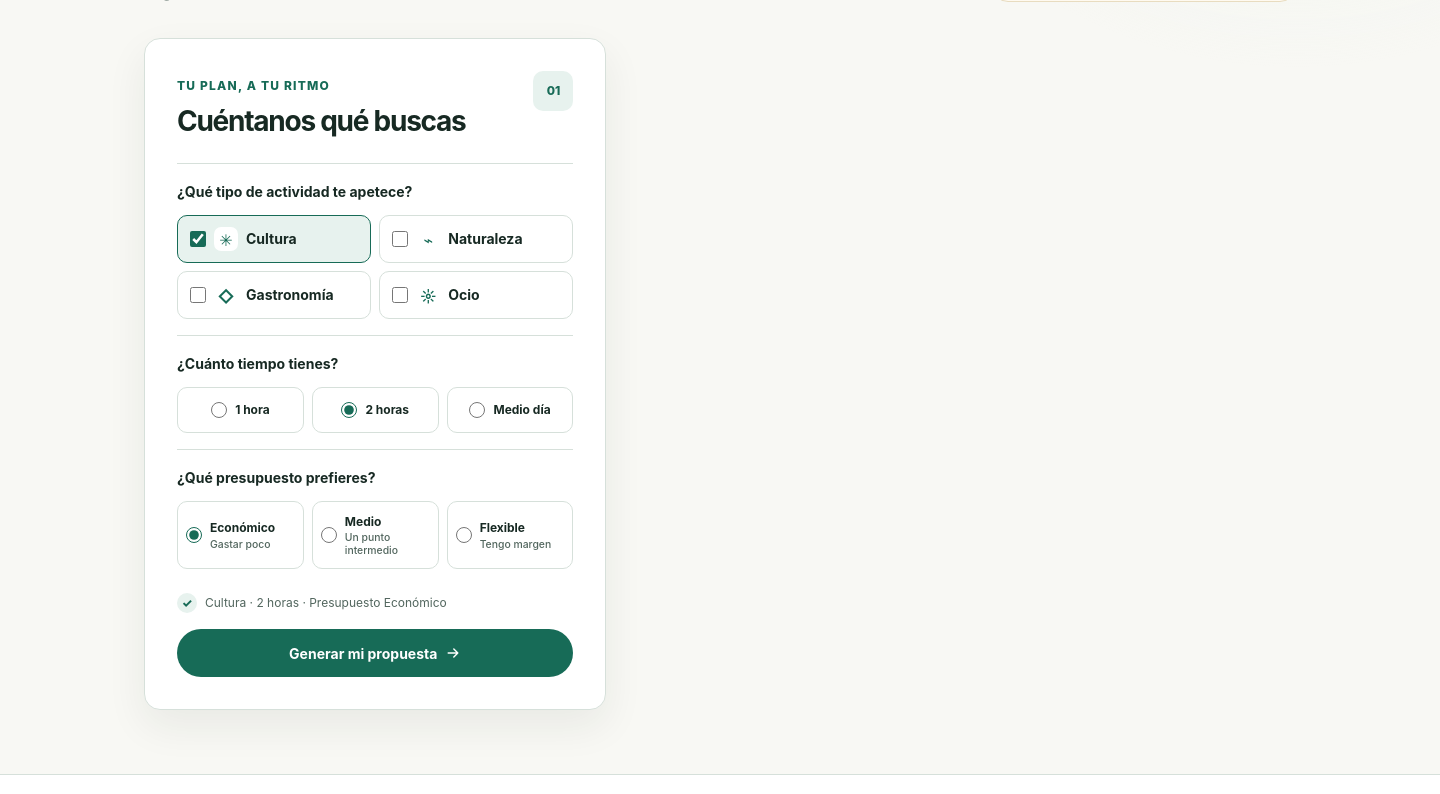
Test: DiscoverPageComponent › updates time and budget preferences without reloading
(page scrolled)
Click the radio button named "availableTime" at (478, 410), box [470, 402, 486, 418]
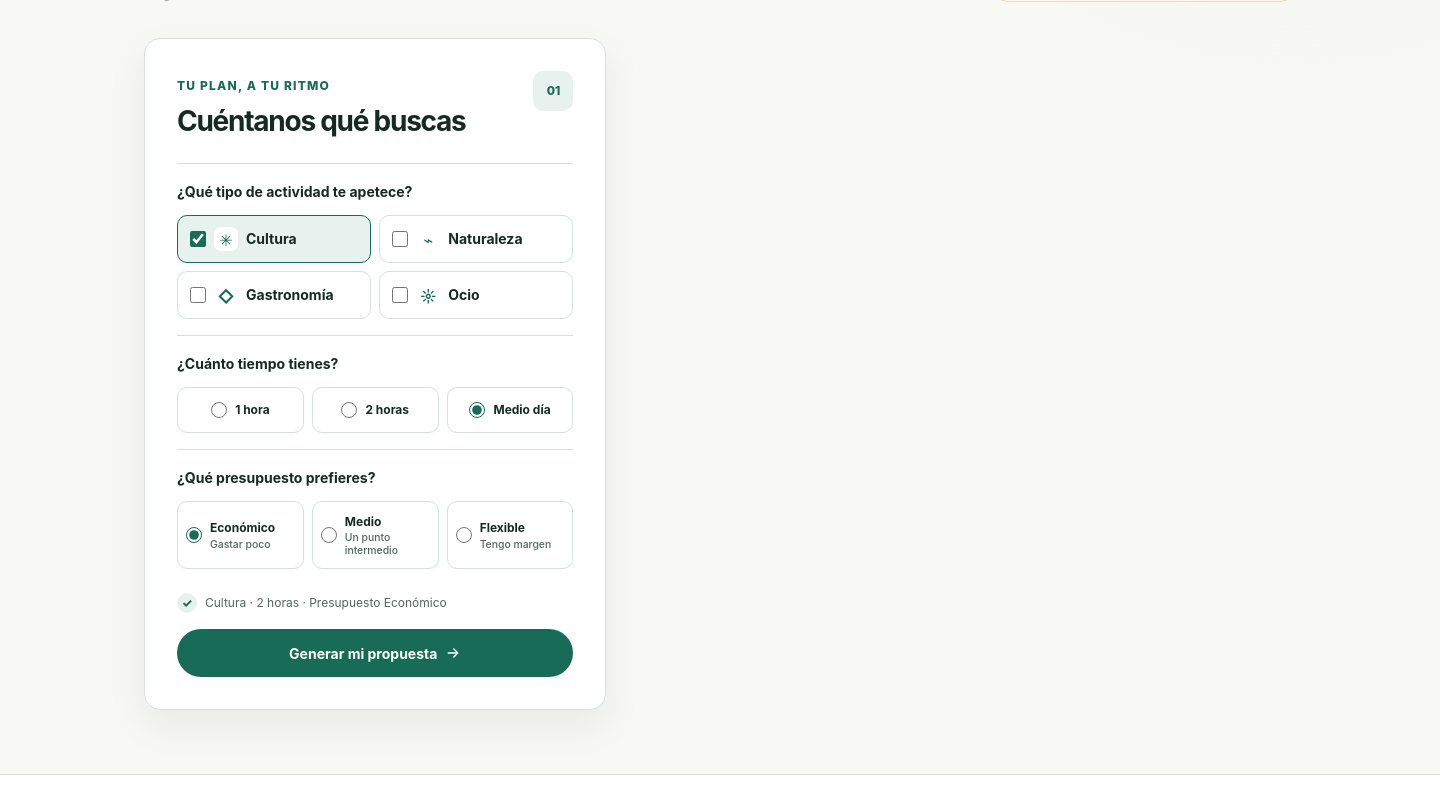
Click the radio button named "budget" at (464, 535), box [456, 527, 472, 543]
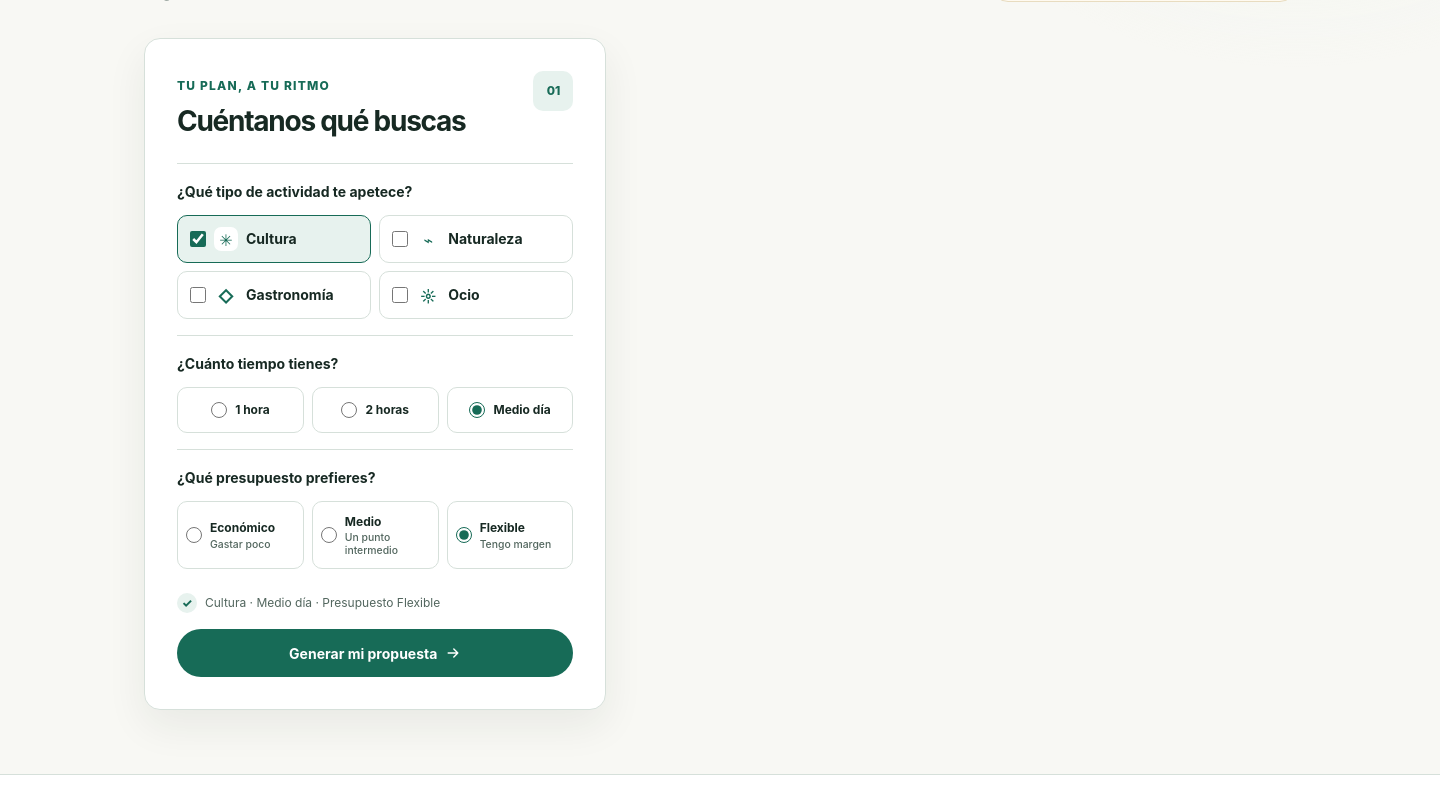
Expected: the element showing "✓ Cultura · Medio día · Presupuesto Flexible" is shown, [177, 593, 440, 613]
Click the button "Generar mi propuesta" at (375, 653), box [177, 629, 574, 677]
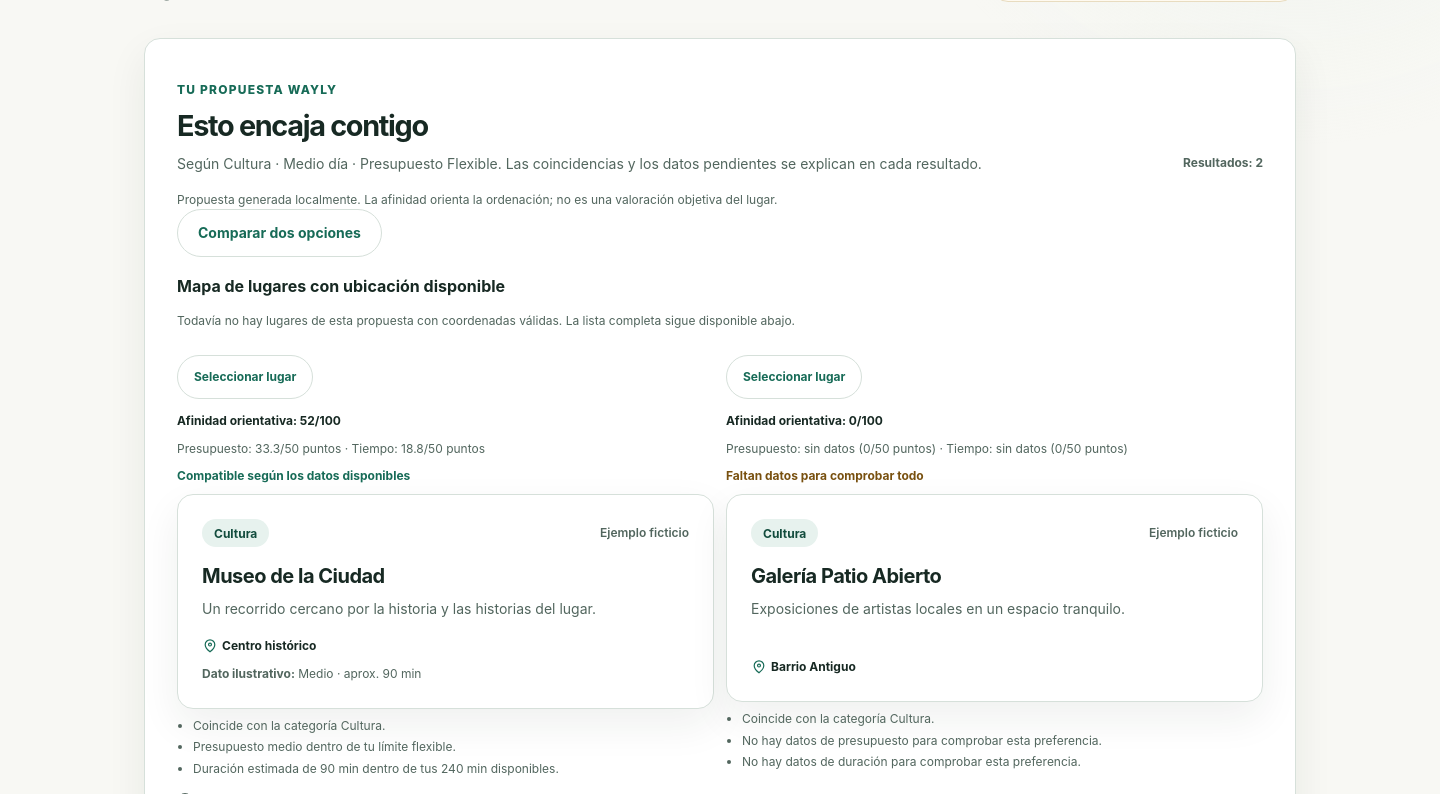
Expected: the text named "Preferencias utilizadas" shows "Cultura · Medio día · Presupuesto Flexible", [177, 155, 982, 172]
Expected: the text "Afinidad orientativa: 52/100" is shown, [177, 413, 341, 428]
Expected: the text "Presupuesto: 33.3/50 puntos" is shown, [177, 441, 485, 456]
